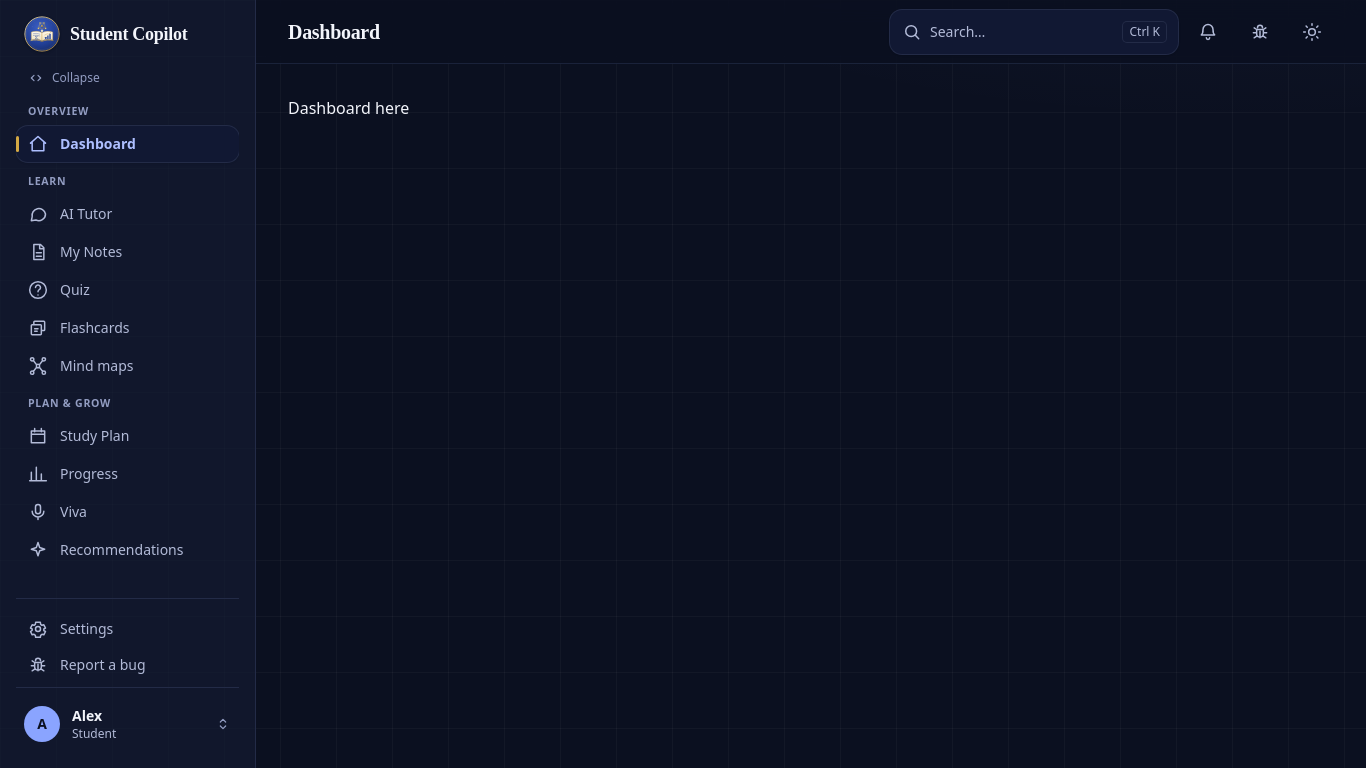
Test: everyone can report a bug › a student can actually send a report, and it goes to the API for filing (never to an admin-only route)
The width and height of the screenshot is (1366, 768).
Expected: the text "Dashboard here" is shown, [288,97,409,119]
Click the button "Report a bug": {"x": 128, "y": 665} [16,647,239,683]
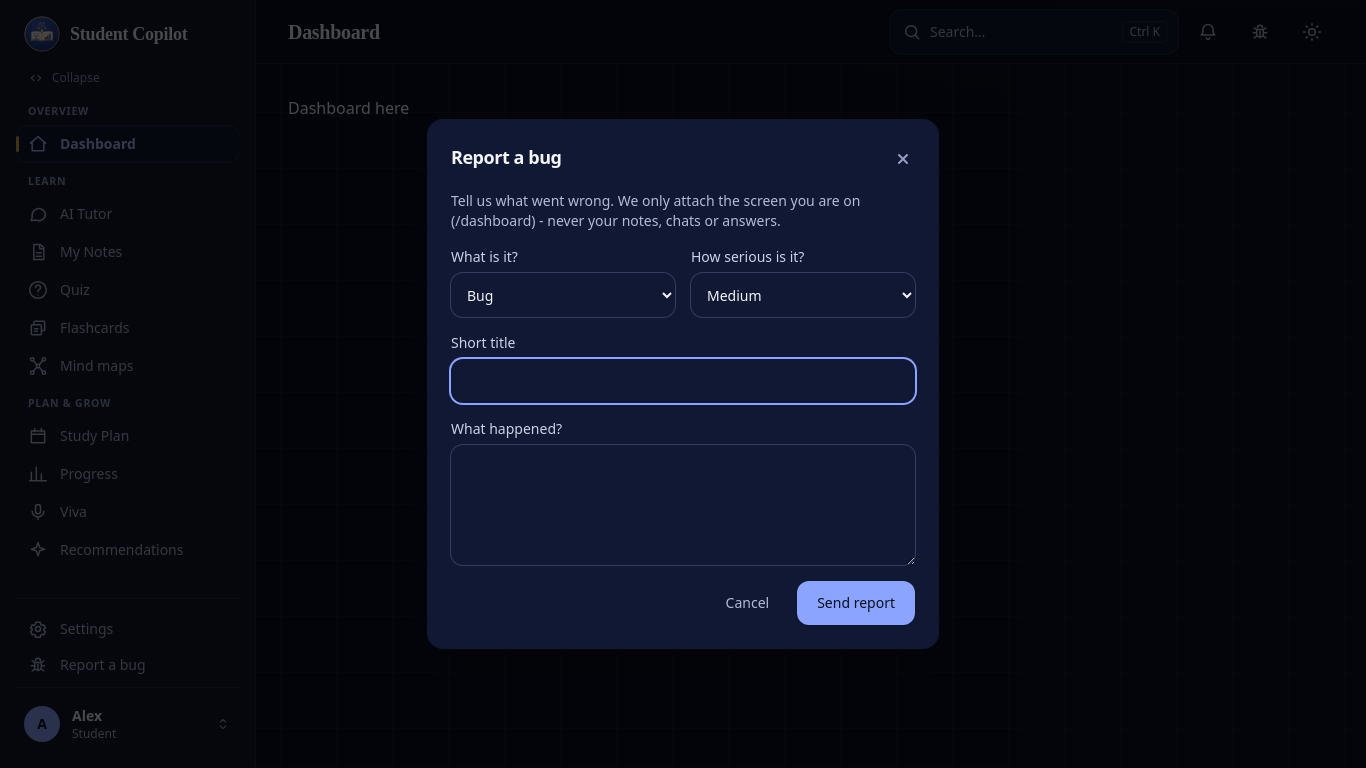
In the field labelled "Short title": {"x": 683, "y": 381} [451,359,915,403], type "Button does nothing"
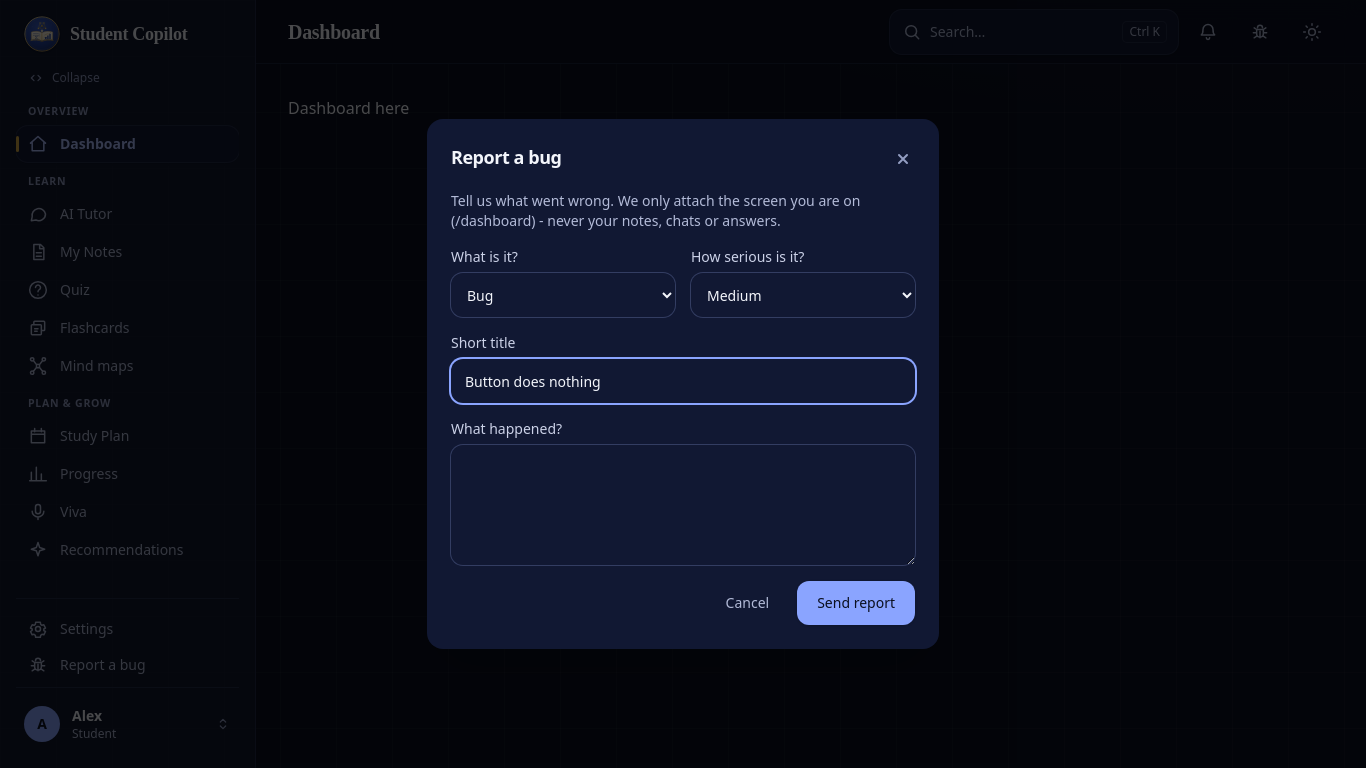
In the text box labelled "What happened?": {"x": 683, "y": 505} [451,445,915,565], type "Pressing save on the page does nothing at all."
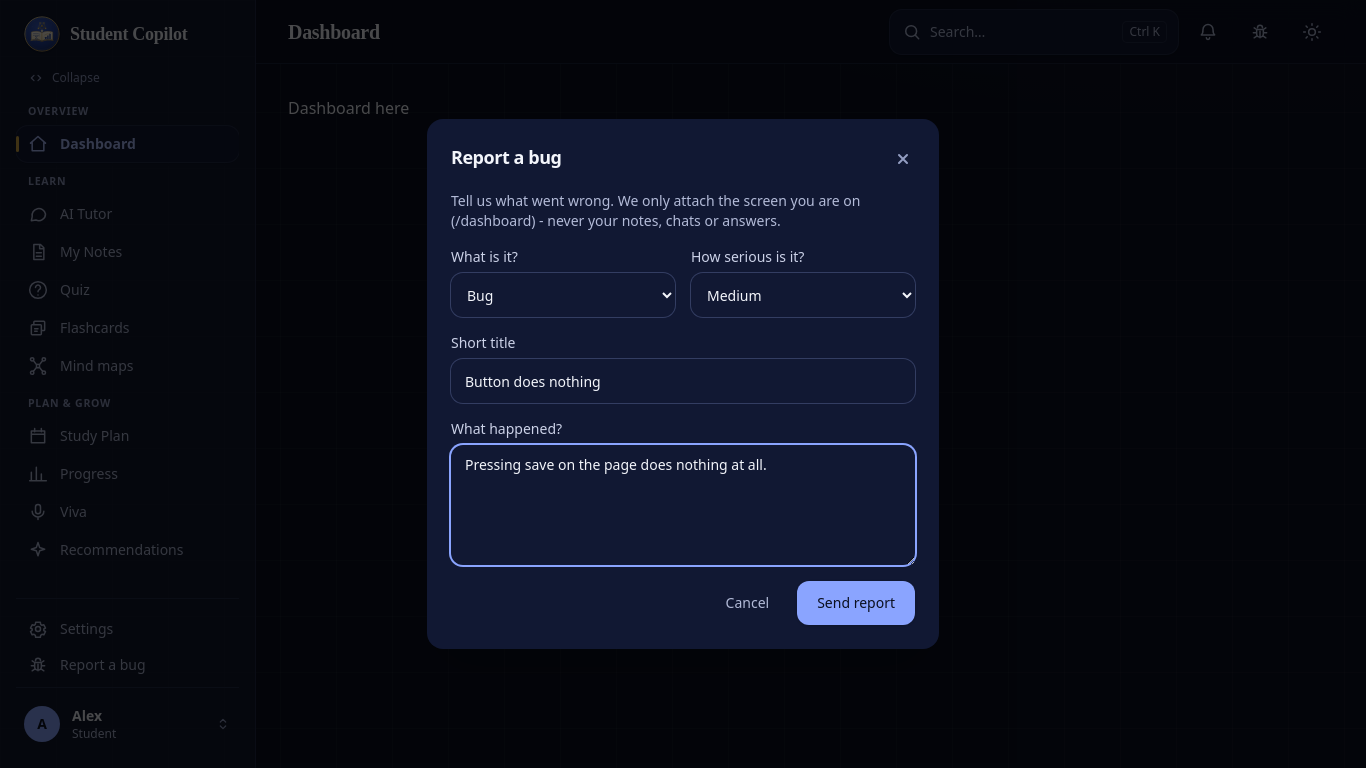
Click the button "Send report": {"x": 856, "y": 603} [797,581,915,625]
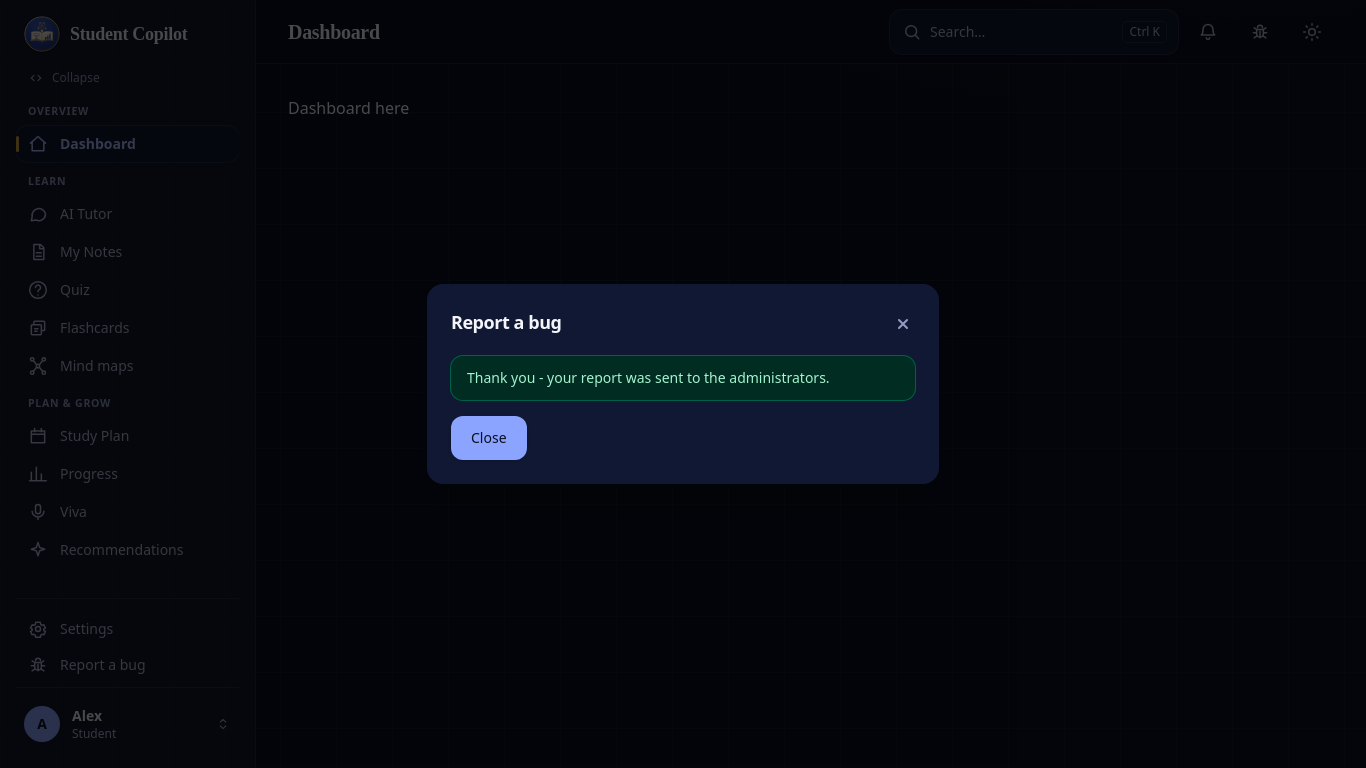
Expected: the text "Thank you - your report was sent to the administrators." is shown, [451,356,915,400]
